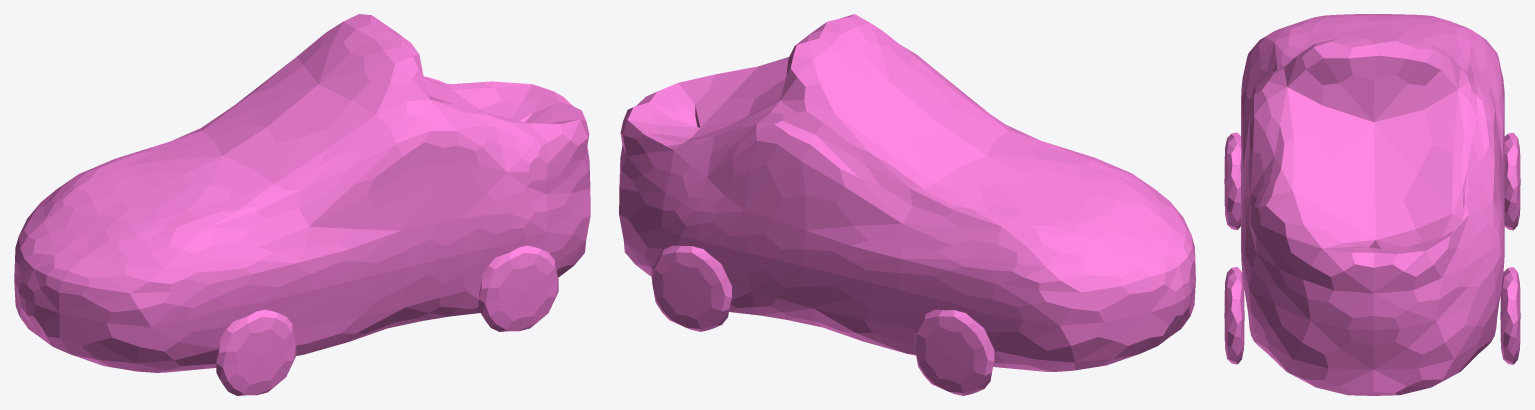
File: RightShoes.obj
The picture shows the model from 3 angles, left to right: view 1: azimuth 30°, elevation 25°; view 2: azimuth 150°, elevation 25°; view 3: azimuth 270°, elevation 25°; orthographic projection. The views are drawn at different scales.
Parts seen in each view (by area): view 1: Cube; view 2: Cube; view 3: Cube.
Boxes of the visible parts, x1,y1,x2,y2 form: Cube: (14, 14, 590, 395); Cube: (619, 14, 1195, 395); Cube: (1224, 14, 1520, 395).
Size of the model in its own units: 12.59 by 5.87 by 5.59.
